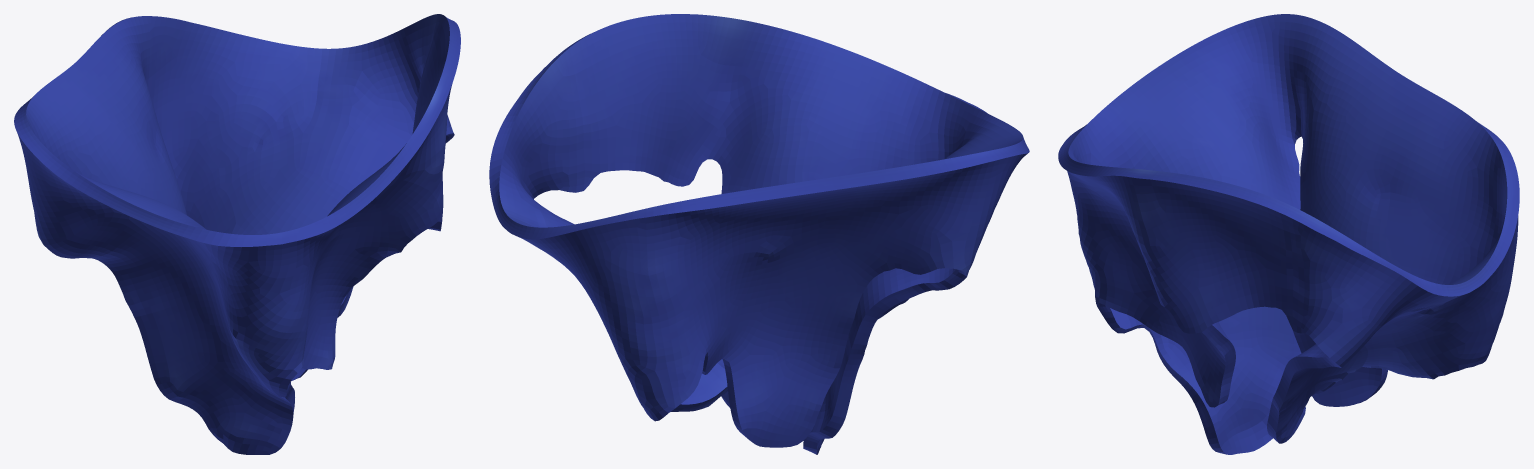
3 renders of one model, left to right at view 1: azimuth 30°, elevation 25°; view 2: azimuth 150°, elevation 25°; view 3: azimuth 270°, elevation 25°, orthographic. The views are drawn at different scales.
Visible parts, largest first — view 1: OCS14_maxS_6; view 2: OCS14_maxS_6; view 3: OCS14_maxS_6.
Part boxes in pixels (left/top/right/bottom): OCS14_maxS_6: left=14, top=14, right=460, bottom=454; OCS14_maxS_6: left=489, top=14, right=1029, bottom=454; OCS14_maxS_6: left=1058, top=14, right=1519, bottom=454.
Bounding box in the file's own units: 1.47 × 1.14 × 1.33.
